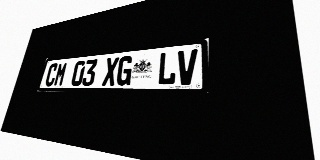0: (70, 60, 86, 86)
3: (81, 59, 98, 86)
C: (44, 63, 59, 86)
G: (115, 55, 134, 86)
L: (157, 51, 177, 85)
M: (53, 62, 68, 86)
V: (176, 49, 198, 85)
X: (102, 57, 119, 86)
